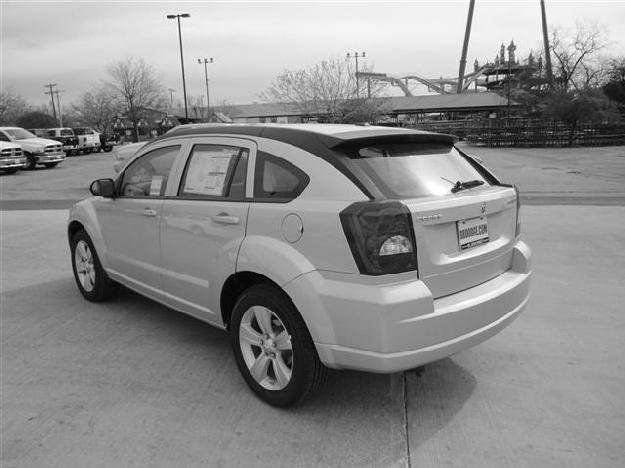car: (65, 122, 536, 411)
